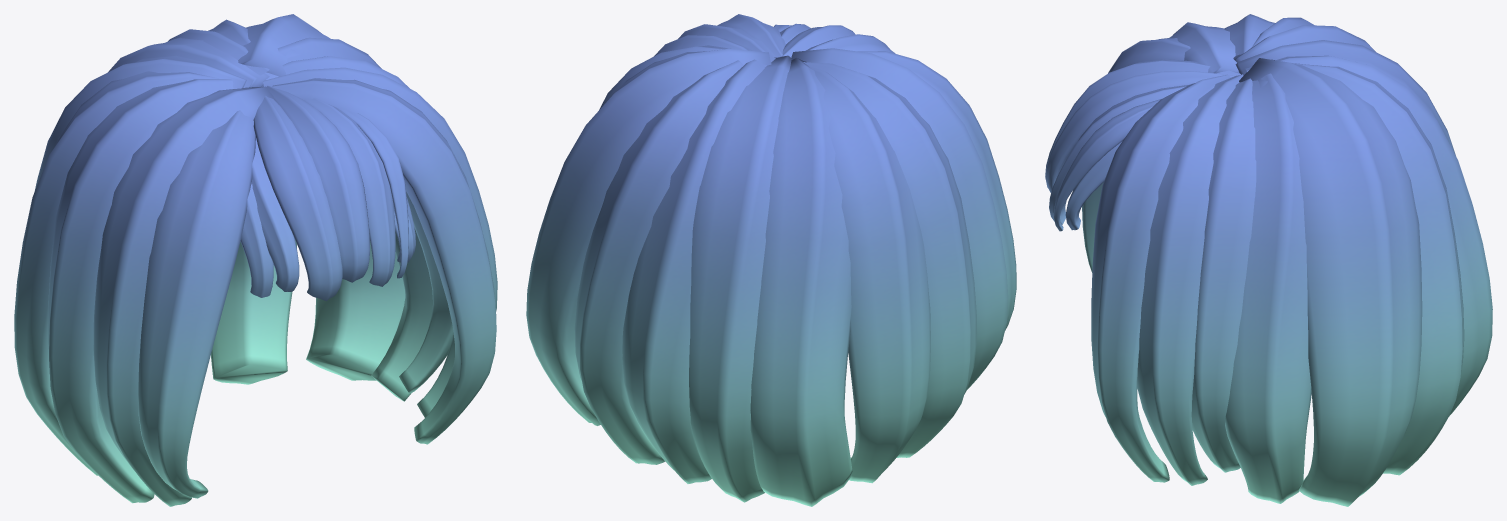
The model's file is hairb4.fbx.
3 renders of one model, left to right at view 1: azimuth 30°, elevation 25°; view 2: azimuth 150°, elevation 25°; view 3: azimuth 270°, elevation 25°, orthographic. The views are drawn at different scales.
Visible parts, largest first — view 1: NurbsPath.023; view 2: NurbsPath.023; view 3: NurbsPath.023.
Part boxes in pixels (left/top/right/bottom): NurbsPath.023: left=14, top=14, right=497, bottom=506; NurbsPath.023: left=526, top=14, right=1016, bottom=506; NurbsPath.023: left=1045, top=14, right=1492, bottom=506.
Size of the model in its own units: 305 by 319 by 302.
